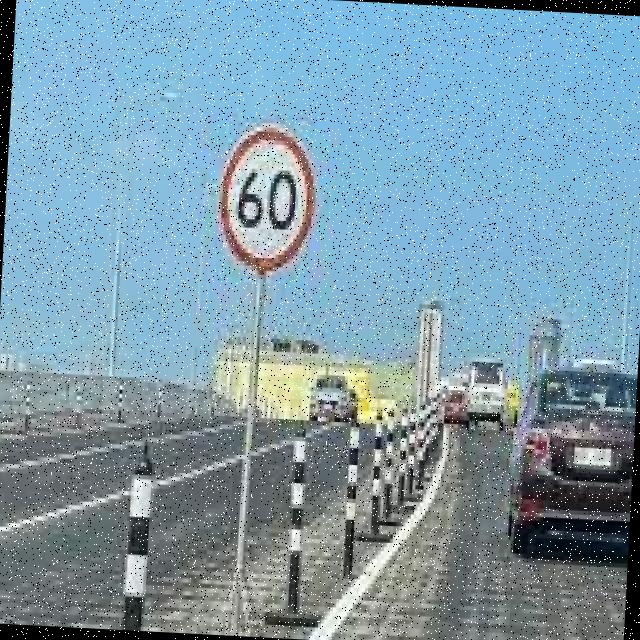speed_limit_60: (206, 112, 325, 279)
